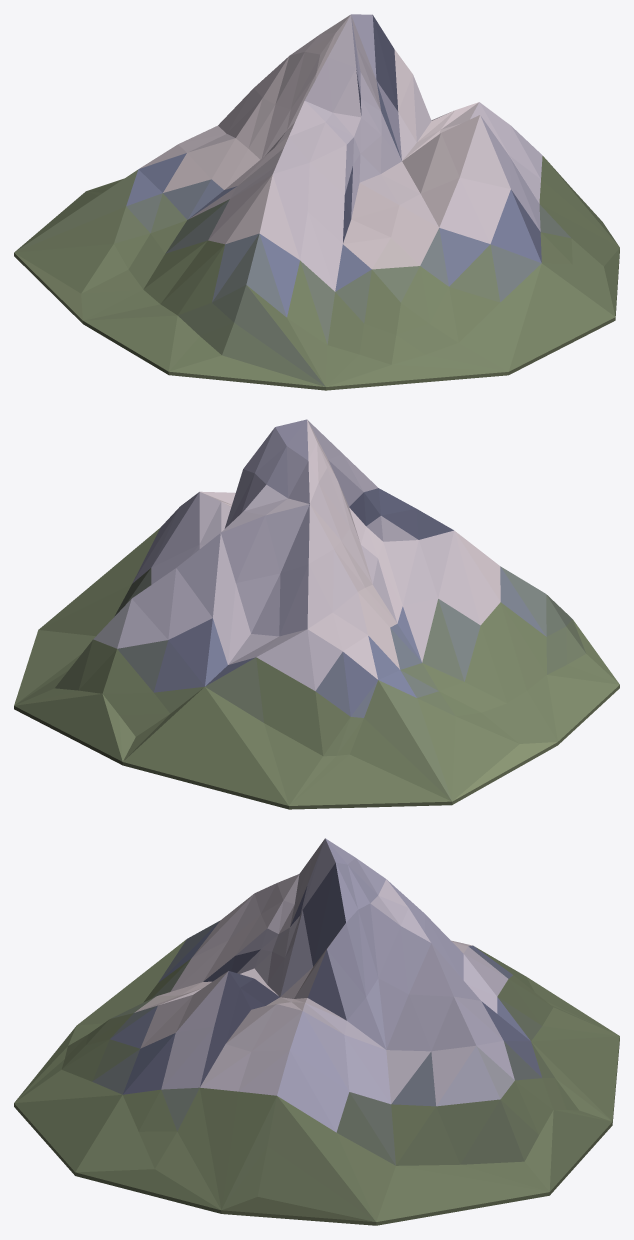
The model's file is massif_frost_crown.glb.
The picture shows the model from 3 angles, top to bottom: view 1: azimuth 30°, elevation 25°; view 2: azimuth 150°, elevation 25°; view 3: azimuth 270°, elevation 25°; orthographic projection. The views are drawn at different scales.
Parts seen in each view (by area): view 1: massif_frost_crown; view 2: massif_frost_crown; view 3: massif_frost_crown.
Boxes of the visible parts, x1,y1,x2,y2 form: massif_frost_crown: (14,14,619,390); massif_frost_crown: (14,419,619,809); massif_frost_crown: (14,838,619,1225).
Bounding box in the file's own units: 975 × 472 × 980.
